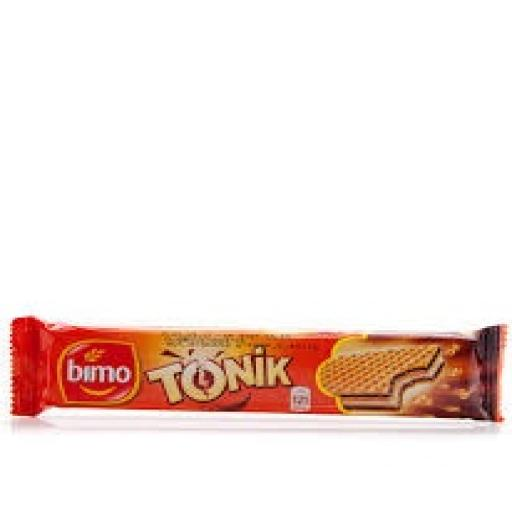tonik: (0, 261, 512, 456)
